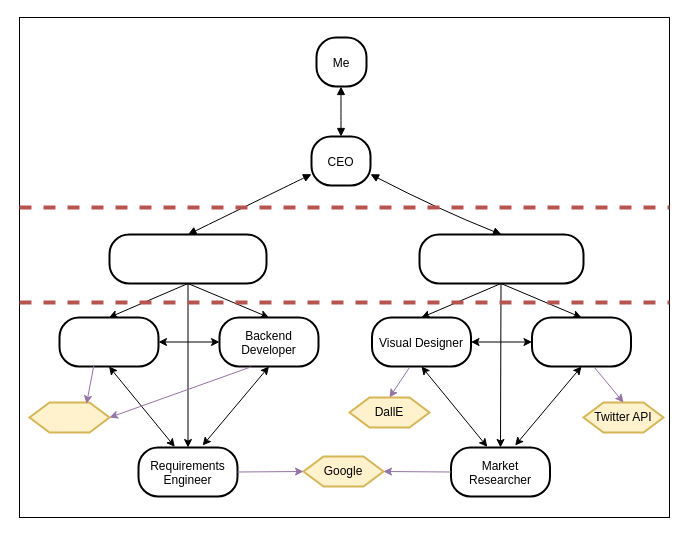
Some shapes in this 689 by 535 pixel diagram are drawn without their labels. Here are the shapes that lost their labels. From the top down, the centre of each, then its label:
(x=187, y=258): Software Director
(x=501, y=258): Marketing Director
(x=108, y=341): Frontend Developer
(x=581, y=341): Content Creator
(x=69, y=417): IDE
